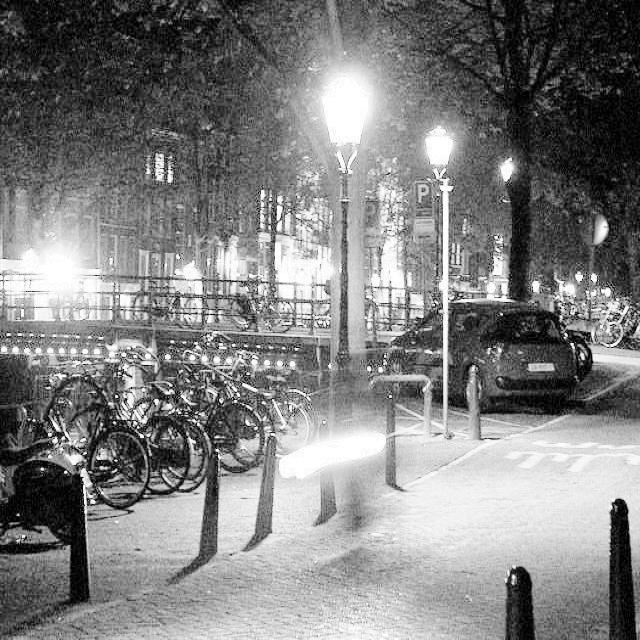Bicycle: (125, 318, 324, 494), (44, 333, 225, 525), (0, 344, 110, 548), (222, 322, 363, 456), (567, 268, 640, 357)
Car: (397, 292, 586, 449)
